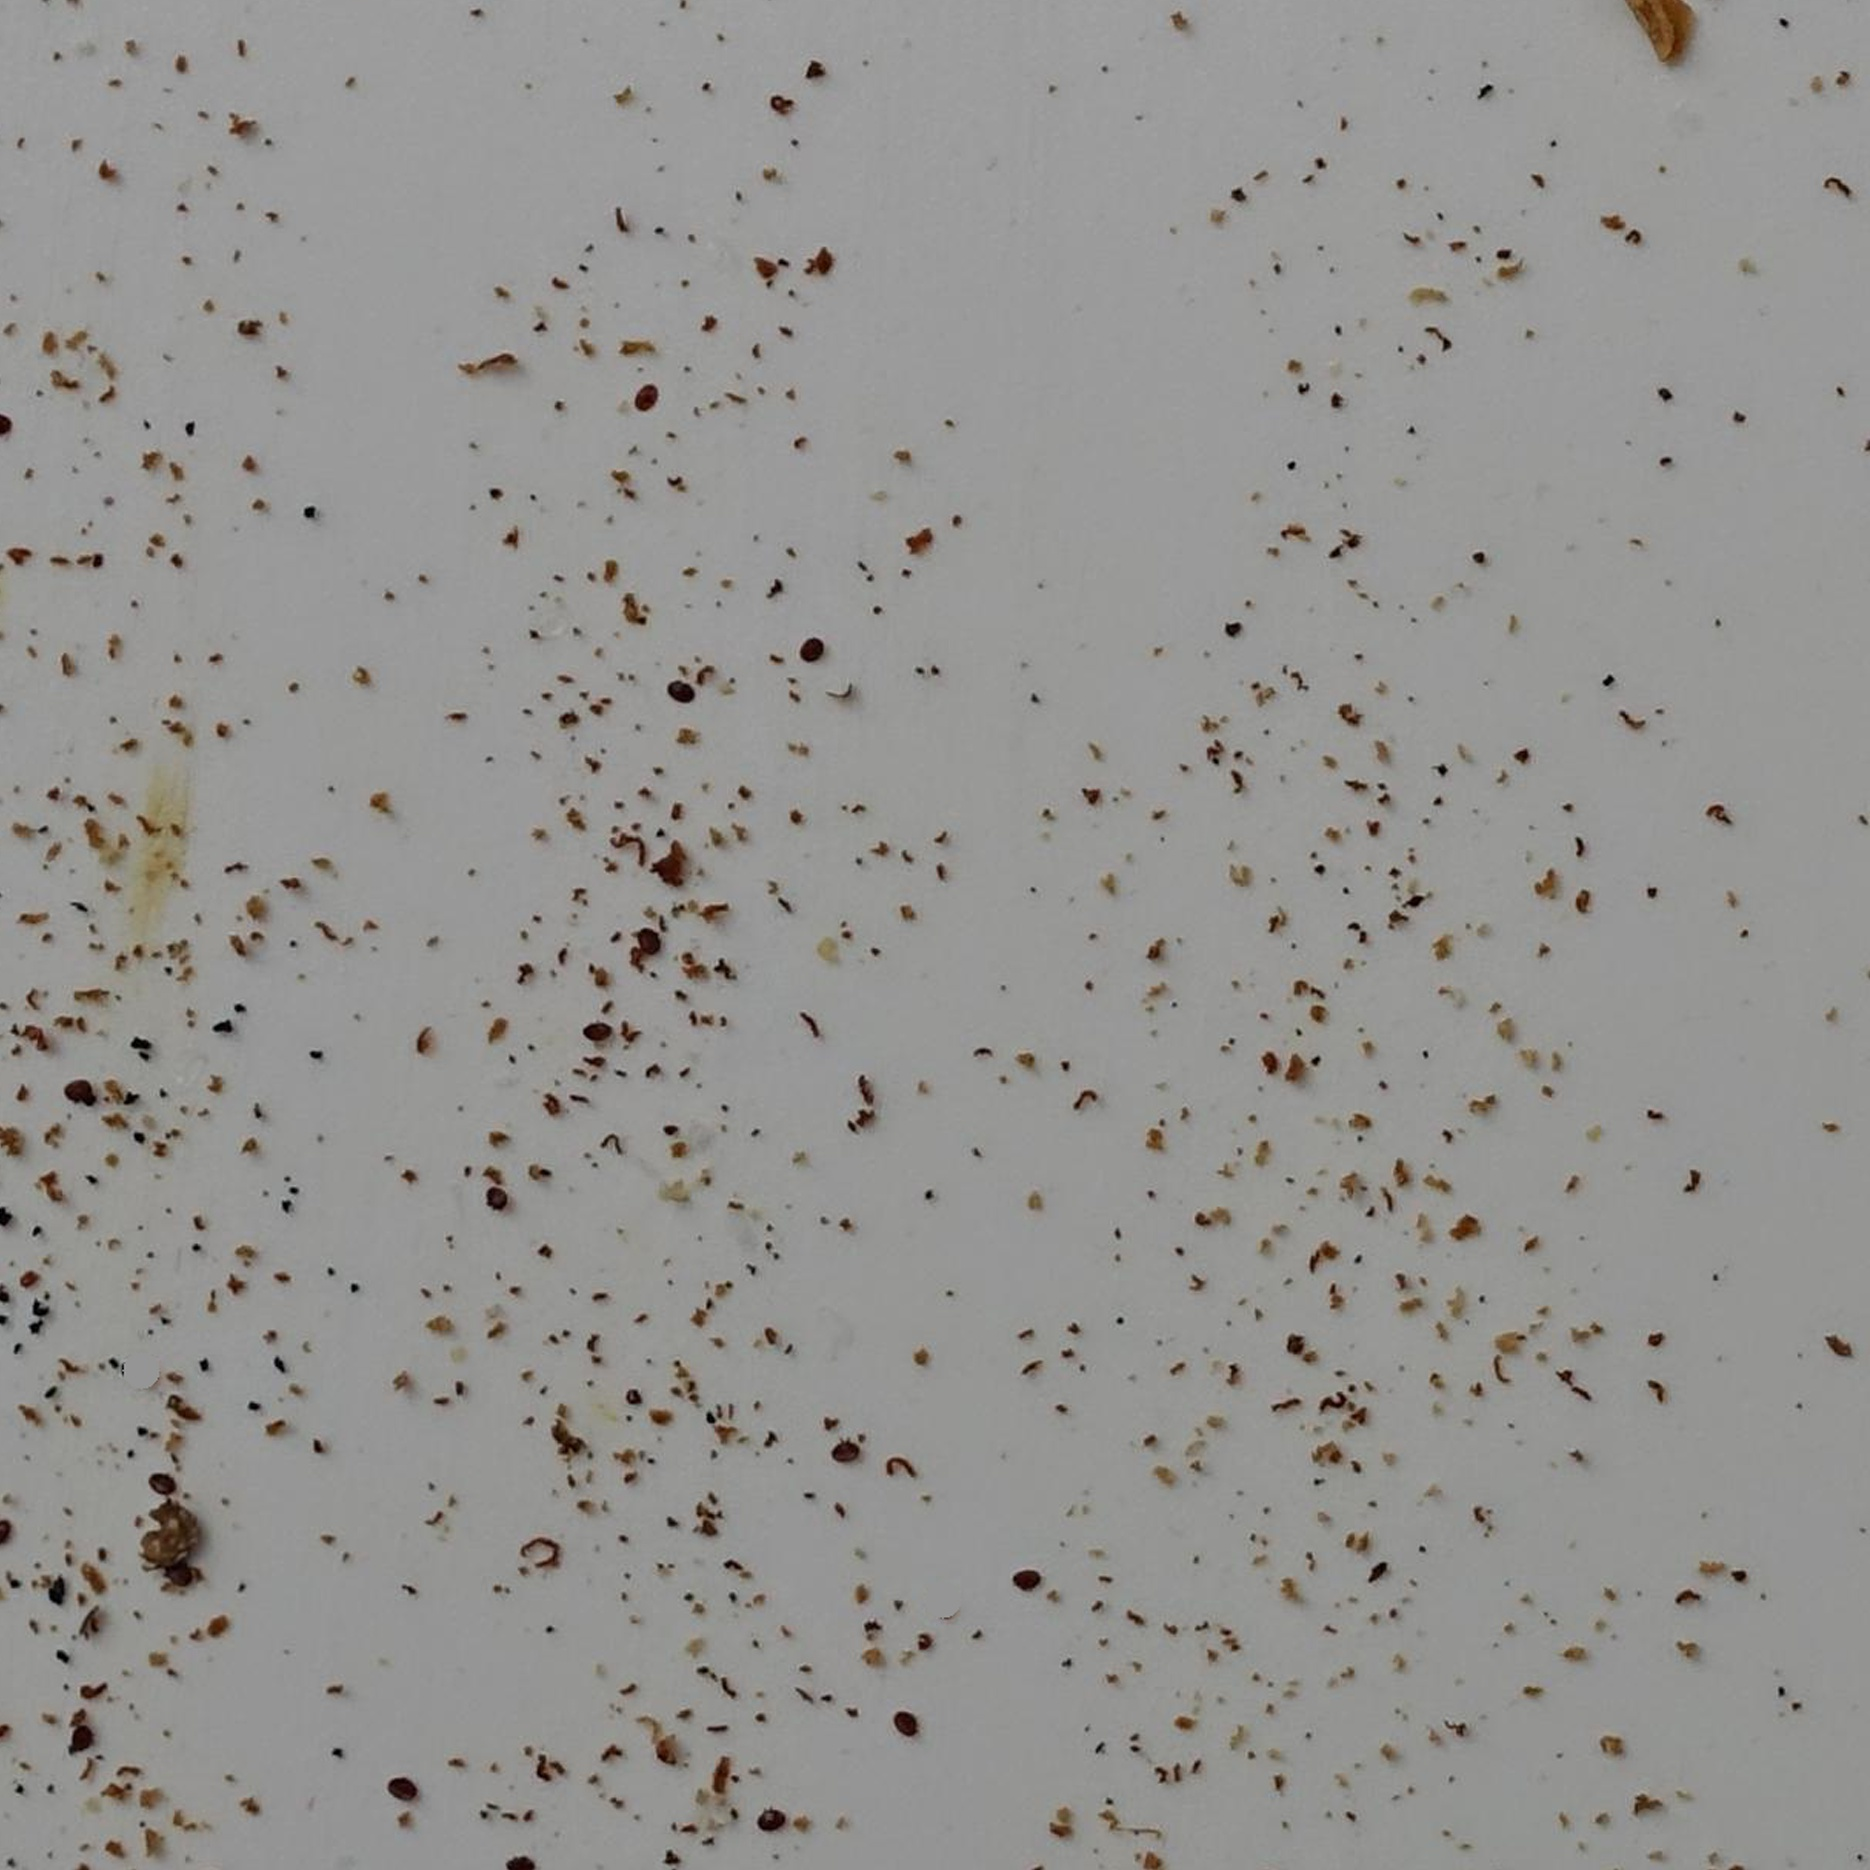Varroa: (161, 1557, 190, 1586), (68, 1724, 94, 1752), (488, 1182, 514, 1207), (829, 1440, 856, 1464), (67, 1075, 91, 1099), (635, 932, 658, 956), (630, 387, 652, 411), (670, 676, 692, 700), (762, 1807, 784, 1831), (397, 1778, 420, 1800), (156, 1473, 178, 1495), (1015, 1565, 1036, 1589), (586, 1021, 608, 1041), (800, 634, 820, 656), (896, 1711, 916, 1731)
